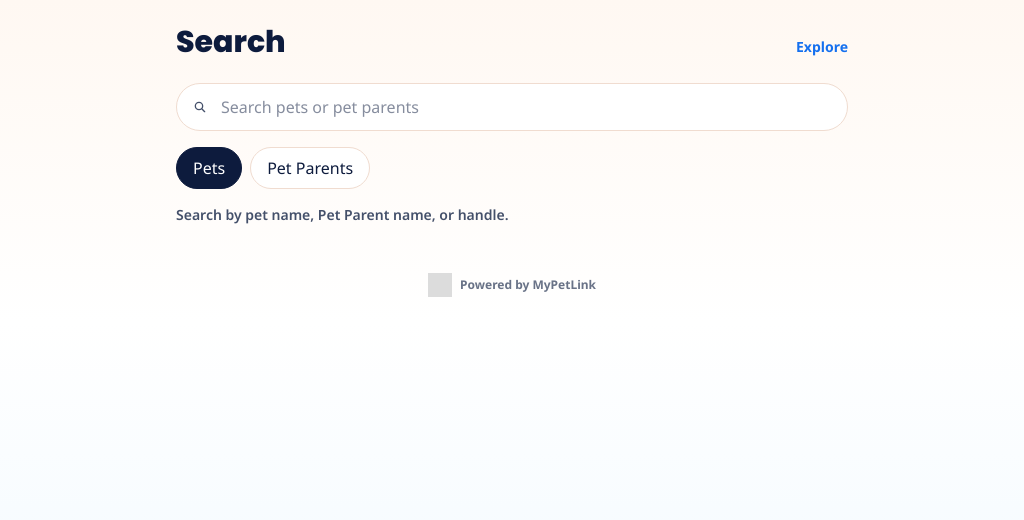
search, across the request boundary › finds exactly what the API finds for tanfamily
This screenshot has width=1024, height=520.
Type "tanfamily" into the search field labelled "Search pets or pet parents" at coordinates (512, 107), box 176,83 -> 848,131
Wait 600 ms
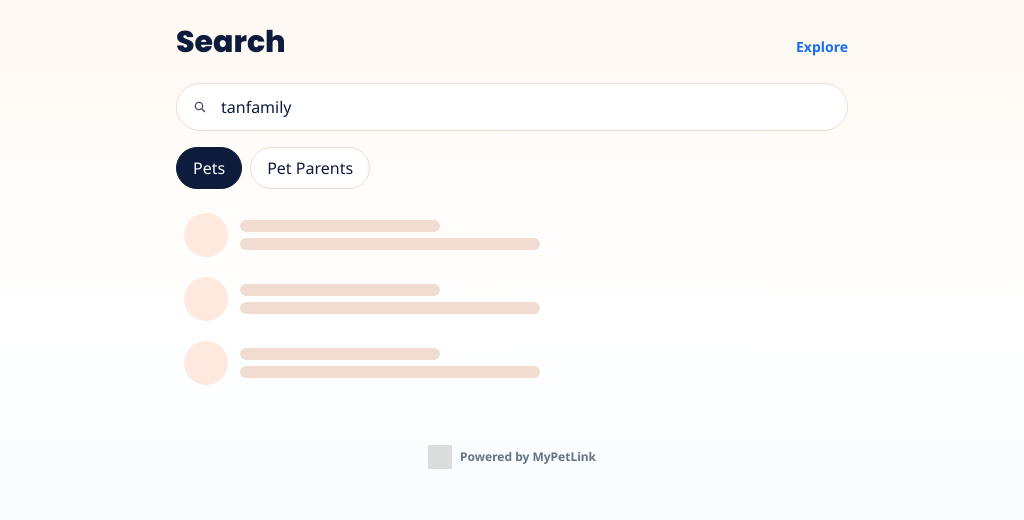
Click the button "Pet Parents" at coordinates (310, 168), box 250,147 -> 370,189
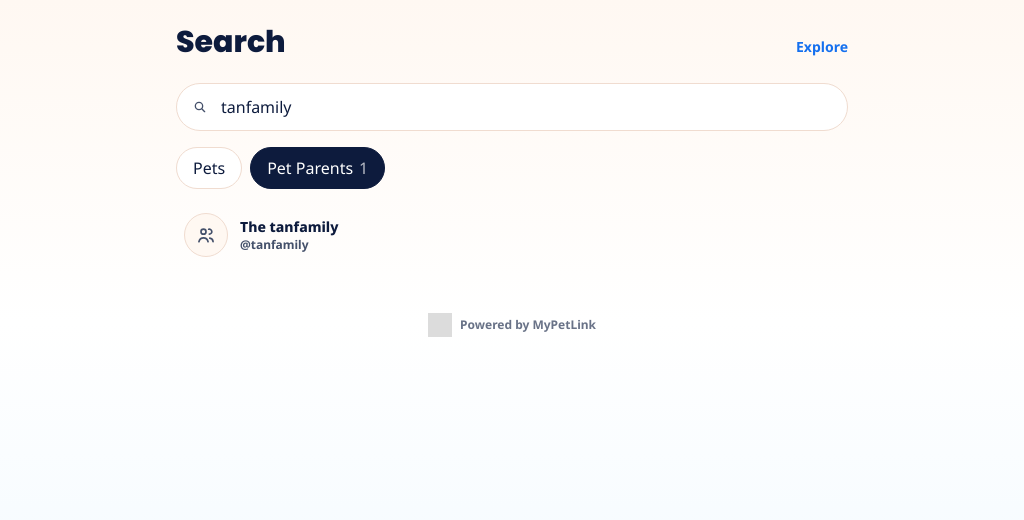
Expected: the list with test id "search-owners" is shown, 184,213 -> 338,257
